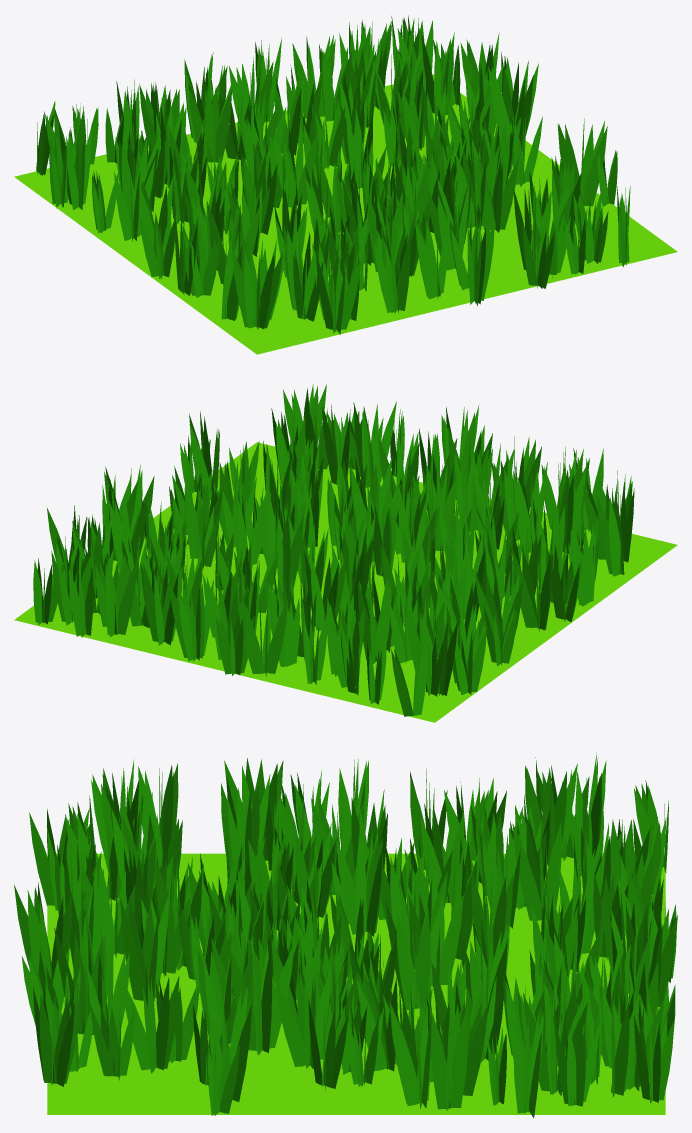
File: grama quadrado.fbx
3 views of the same model, one above another, from view 1: azimuth 30°, elevation 25°; view 2: azimuth 150°, elevation 25°; view 3: azimuth 270°, elevation 25° (orthographic). The views are drawn at different scales.
Parts seen in each view (by area): view 1: Plane.001, Plane.001|Plane.002|Dupli|290, Plane.001|Plane.002|Dupli|161, Plane.001|Plane.002|Dupli|524, Plane.001|Plane.002|Dupli|406, Plane.001|Plane.002|Dupli|621, Plane.001|Plane.002|Dupli|365, Plane.001|Plane.002|Dupli|382, Plane.001|Plane.002|Dupli|1175, Plane.001|Plane.002|Dupli|1069, Plane.001|Plane.002|Dupli|171, Plane.001|Plane.002|Dupli|425 (+7 smaller); view 2: Plane.001, Plane.001|Plane.002|Dupli|581, Plane.001|Plane.002|Dupli|1181, Plane.001|Plane.002|Dupli|197, Plane.001|Plane.002|Dupli|284, Plane.001|Plane.002|Dupli|260, Plane.001|Plane.002|Dupli|890, Plane.001|Plane.002|Dupli|335, Plane.001|Plane.002|Dupli|858, Plane.001|Plane.002|Dupli|836, Plane.001|Plane.002|Dupli|166, Plane.001|Plane.002|Dupli|258 (+8 smaller); view 3: Plane.001, Plane.001|Plane.002|Dupli|749, Plane.001|Plane.002|Dupli|689, Plane.001|Plane.002|Dupli|896, Plane.001|Plane.002|Dupli|239, Plane.001|Plane.002|Dupli|316, Plane.001|Plane.002|Dupli|694, Plane.001|Plane.002|Dupli|1135, Plane.001|Plane.002|Dupli|746, Plane.001|Plane.002|Dupli|758, Plane.001|Plane.002|Dupli|1055, Plane.001|Plane.002|Dupli|751 (+47 smaller).
Part boxes in pixels (x1=…): Plane.001: x1=14, y1=74, x2=677, y2=354; Plane.001|Plane.002|Dupli|290: x1=584, y1=126, x2=607, y2=206; Plane.001|Plane.002|Dupli|161: x1=415, y1=223, x2=437, y2=298; Plane.001|Plane.002|Dupli|524: x1=215, y1=88, x2=232, y2=162; Plane.001|Plane.002|Dupli|406: x1=322, y1=51, x2=335, y2=121; Plane.001|Plane.002|Dupli|621: x1=244, y1=250, x2=256, y2=328; Plane.001|Plane.002|Dupli|365: x1=297, y1=130, x2=318, y2=204; Plane.001|Plane.002|Dupli|382: x1=336, y1=257, x2=361, y2=329; Plane.001|Plane.002|Dupli|1175: x1=500, y1=157, x2=518, y2=229; Plane.001|Plane.002|Dupli|1069: x1=397, y1=238, x2=410, y2=310; Plane.001|Plane.002|Dupli|171: x1=258, y1=254, x2=273, y2=328; Plane.001|Plane.002|Dupli|425: x1=474, y1=157, x2=495, y2=230; Plane.001: x1=14, y1=442, x2=677, y2=722; Plane.001|Plane.002|Dupli|581: x1=264, y1=598, x2=288, y2=673; Plane.001|Plane.002|Dupli|1181: x1=237, y1=596, x2=264, y2=673; Plane.001|Plane.002|Dupli|197: x1=511, y1=547, x2=537, y2=627; Plane.001|Plane.002|Dupli|284: x1=118, y1=558, x2=137, y2=634; Plane.001|Plane.002|Dupli|260: x1=186, y1=485, x2=200, y2=558; Plane.001|Plane.002|Dupli|890: x1=189, y1=424, x2=211, y2=500; Plane.001|Plane.002|Dupli|335: x1=326, y1=614, x2=347, y2=687; Plane.001|Plane.002|Dupli|858: x1=609, y1=499, x2=620, y2=576; Plane.001|Plane.002|Dupli|836: x1=517, y1=476, x2=533, y2=553; Plane.001|Plane.002|Dupli|166: x1=378, y1=583, x2=391, y2=660; Plane.001|Plane.002|Dupli|258: x1=596, y1=494, x2=620, y2=574; Plane.001: x1=47, y1=853, x2=665, y2=1114; Plane.001|Plane.002|Dupli|749: x1=390, y1=1006, x2=419, y2=1105; Plane.001|Plane.002|Dupli|689: x1=429, y1=1005, x2=453, y2=1109; Plane.001|Plane.002|Dupli|896: x1=397, y1=911, x2=420, y2=1009; Plane.001|Plane.002|Dupli|239: x1=452, y1=1005, x2=468, y2=1107; Plane.001|Plane.002|Dupli|316: x1=512, y1=823, x2=541, y2=920; Plane.001|Plane.002|Dupli|694: x1=274, y1=975, x2=305, y2=1066; Plane.001|Plane.002|Dupli|1135: x1=120, y1=898, x2=145, y2=1000; Plane.001|Plane.002|Dupli|746: x1=415, y1=909, x2=430, y2=1008; Plane.001|Plane.002|Dupli|758: x1=439, y1=895, x2=463, y2=985; Plane.001|Plane.002|Dupli|1055: x1=611, y1=1002, x2=629, y2=1095; Plane.001|Plane.002|Dupli|751: x1=513, y1=1020, x2=528, y2=1113.
Bounding box in the file's own units: 212 × 38.11 × 215.
